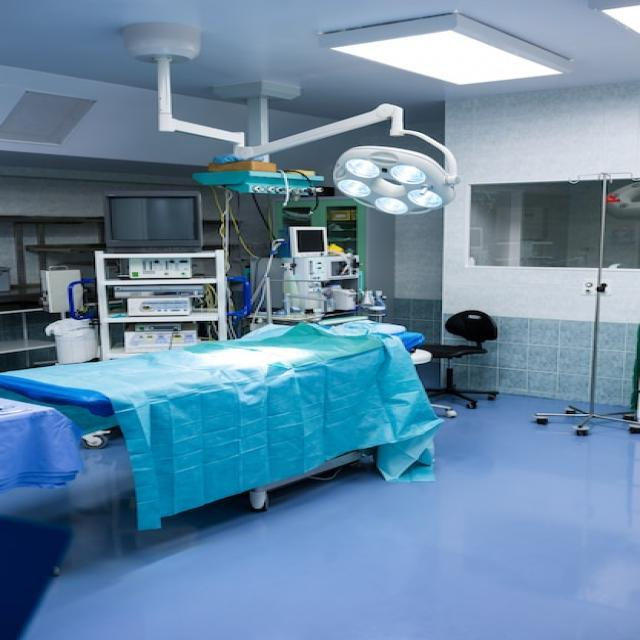Monitor: (84, 184, 222, 284)
Saline Stand: (549, 155, 635, 462)
bed: (0, 320, 440, 530)
chair: (419, 281, 503, 424)
